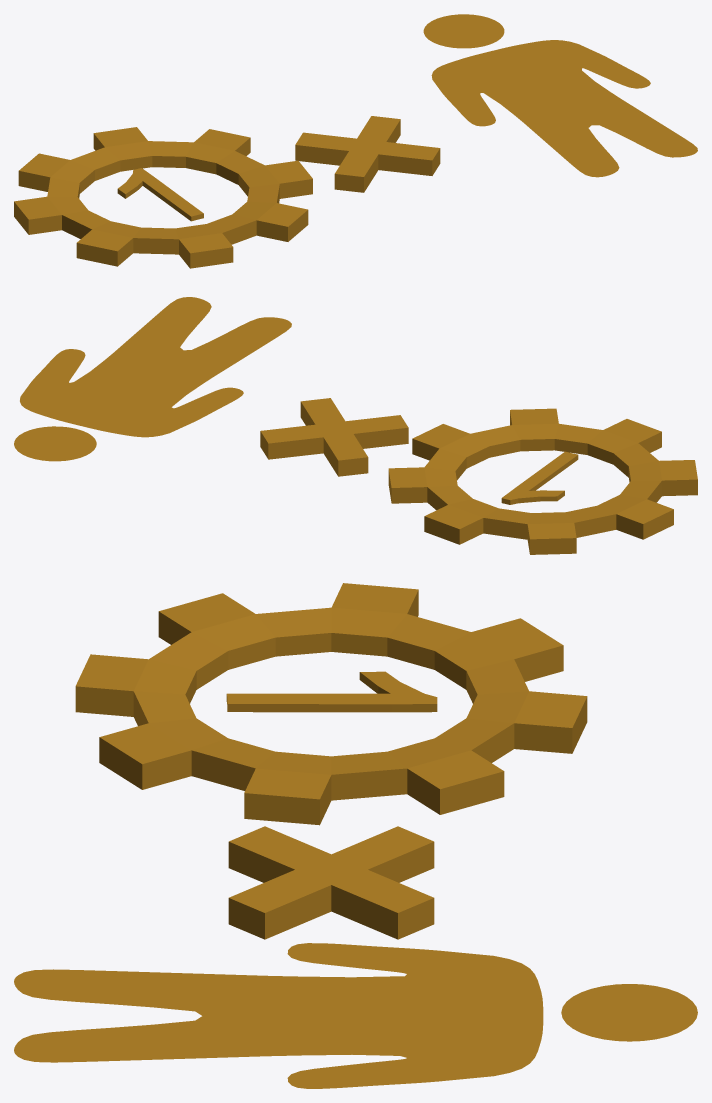
The model's file is Machine1XMen.fbx.
3 renders of one model, top to bottom at view 1: azimuth 30°, elevation 25°; view 2: azimuth 150°, elevation 25°; view 3: azimuth 270°, elevation 25°, orthographic. The views are drawn at different scales.
Parts seen in each view (by area): view 1: Text.004; view 2: Text.004; view 3: Text.004.
Boxes of the visible parts, left/top/right/bottom form: Text.004: left=14, top=14, right=697, bottom=268; Text.004: left=14, top=297, right=697, bottom=554; Text.004: left=14, top=583, right=697, bottom=1088.
Bounding box in the file's own units: 223 × 7.66 × 128.
